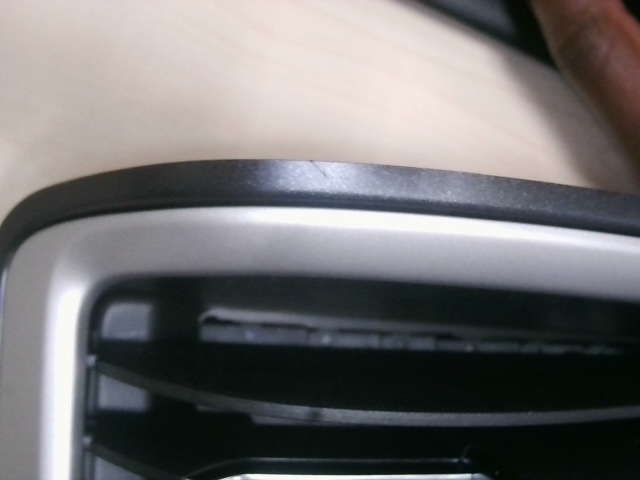NG: (301, 152, 339, 189)
